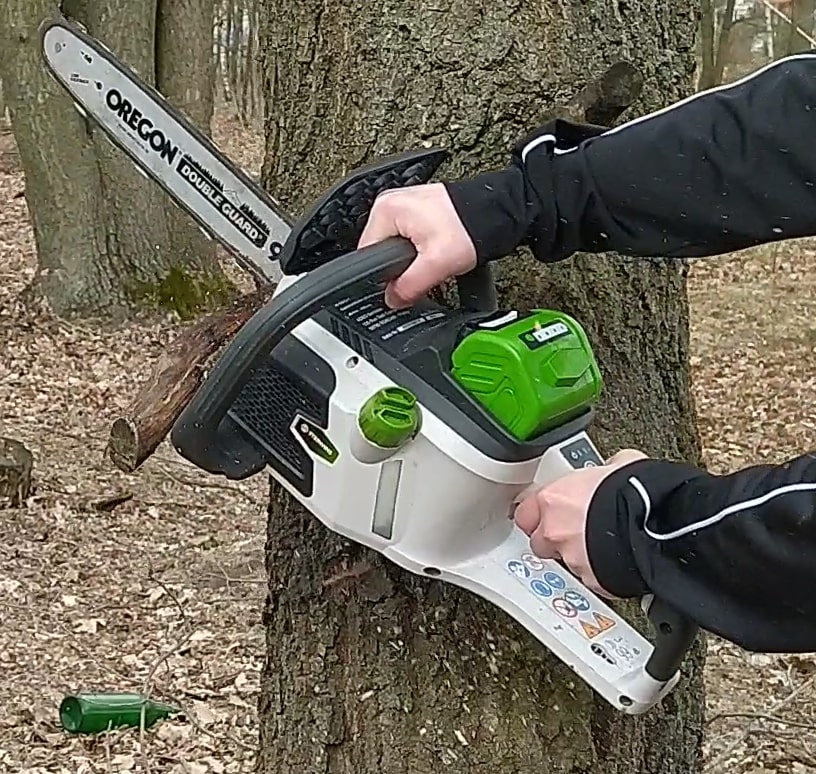chainsaw: (19, 17, 729, 755)
